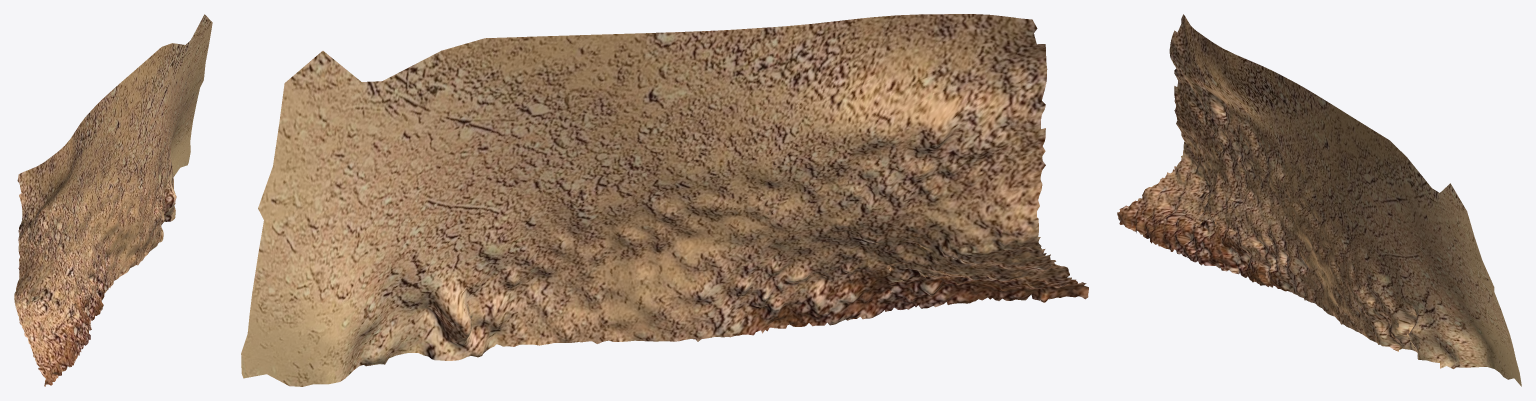
Rendered from land_15.obj.
The picture shows the model from 3 angles, left to right: view 1: azimuth 30°, elevation 25°; view 2: azimuth 150°, elevation 25°; view 3: azimuth 270°, elevation 25°; orthographic projection. The views are drawn at different scales.
Bounding box in the file's own units: 1.85 × 1.02 × 1.79.
Materials: 1 (1 with a texture image).
